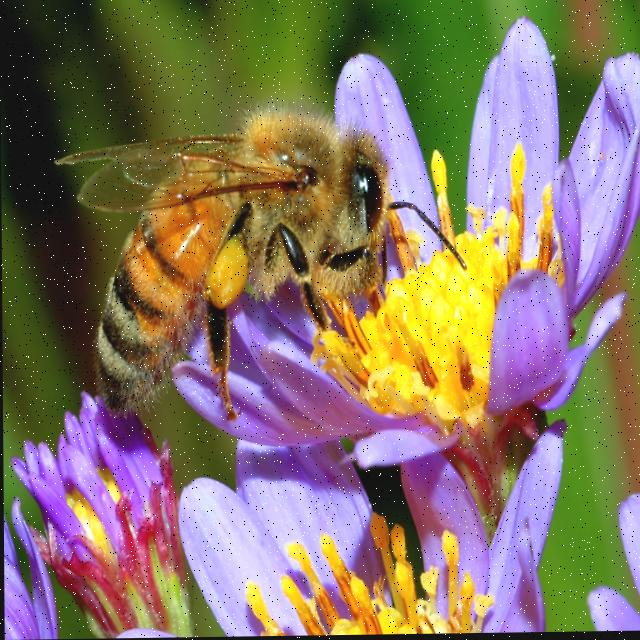Apis-mellifera-scutellata: (54, 104, 429, 421)
